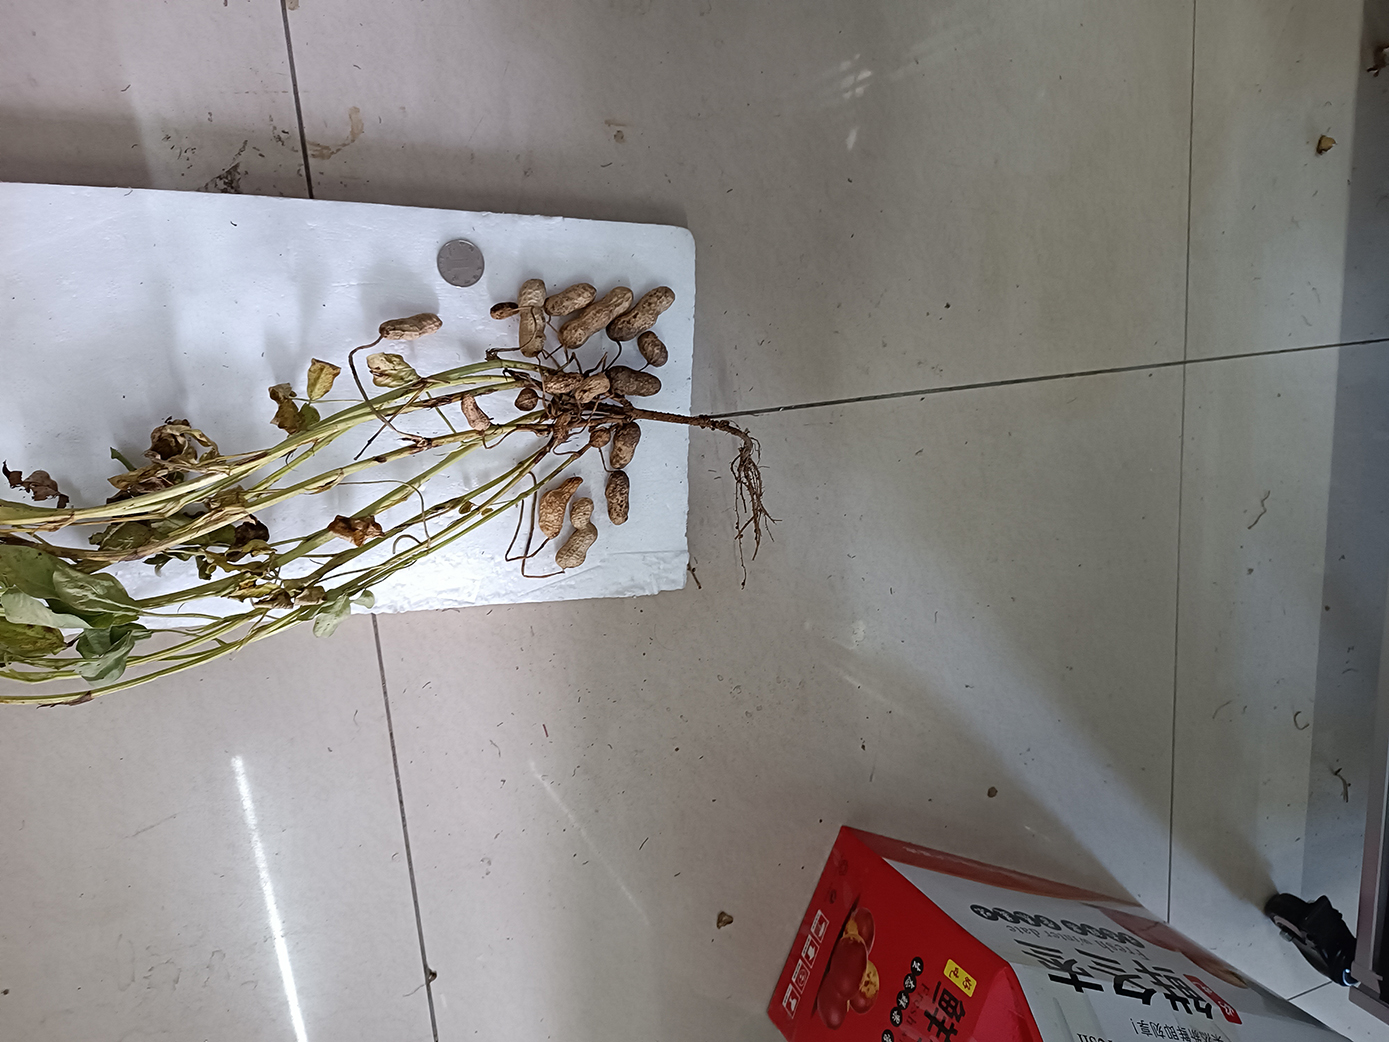h: (559, 287, 632, 347), (606, 285, 676, 341), (555, 499, 597, 568), (539, 477, 584, 539), (519, 279, 547, 357), (380, 314, 443, 341), (543, 283, 598, 315), (609, 421, 643, 468), (461, 392, 491, 433), (639, 331, 668, 367), (576, 375, 607, 403), (545, 374, 582, 395), (589, 427, 609, 449), (490, 303, 519, 317)
l: (606, 367, 662, 398), (605, 471, 630, 526), (514, 387, 537, 412)
